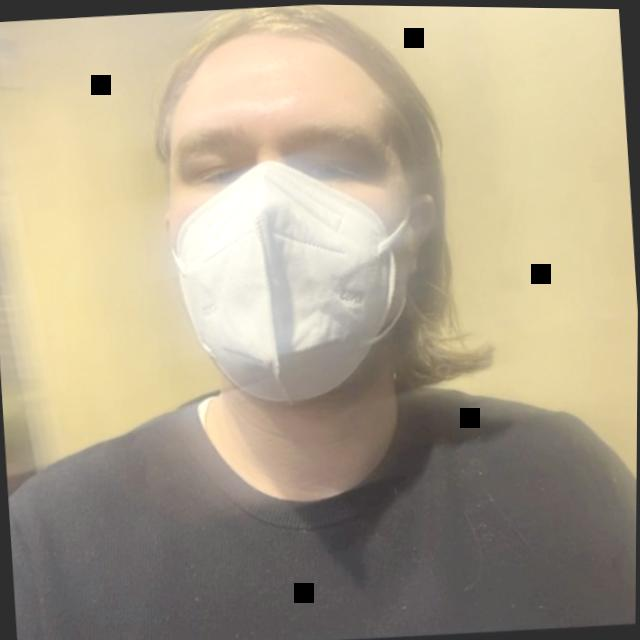Mask: (130, 2, 495, 418)
